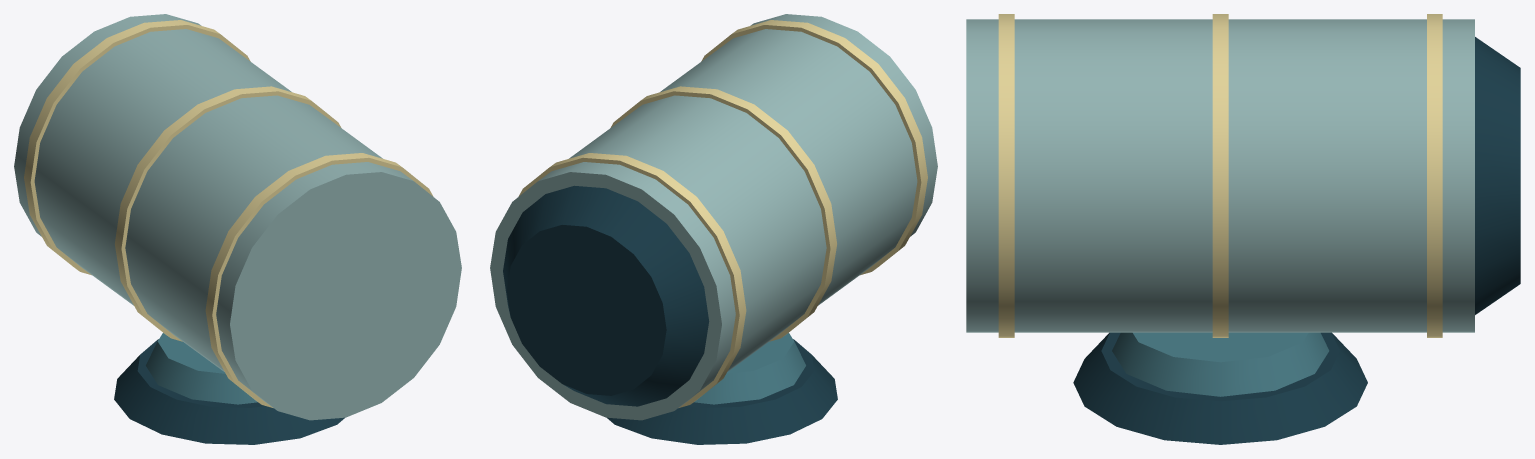
The model's file is pelagic_high_pressure--cargo_pod.glb.
3 renders of one model, left to right at view 1: azimuth 30°, elevation 25°; view 2: azimuth 150°, elevation 25°; view 3: azimuth 270°, elevation 25°, orthographic. The views are drawn at different scales.
Visible parts, largest first — view 1: sealed_pod_3, mount_adapter_1, containment_band_6, containment_band_4, containment_band_5, rotation_bearing_2; view 2: sealed_pod_3, pod_end_7, mount_adapter_1, containment_band_4, containment_band_6, containment_band_5, rotation_bearing_2; view 3: sealed_pod_3, mount_adapter_1, rotation_bearing_2, pod_end_7, containment_band_5, containment_band_6, containment_band_4.
Part boxes in pixels (x1,y1,x2,y2): sealed_pod_3: (14,14,461,420); mount_adapter_1: (114,339,344,444); containment_band_6: (205,153,433,407); containment_band_4: (24,20,250,275); containment_band_5: (115,86,341,341); rotation_bearing_2: (146,333,257,404); sealed_pod_3: (490,14,937,420); pod_end_7: (503,185,709,406); mount_adapter_1: (607,339,837,444); containment_band_4: (518,153,746,407); containment_band_6: (701,20,927,275); containment_band_5: (610,86,836,341); rotation_bearing_2: (694,333,805,404); sealed_pod_3: (966,19,1474,332); mount_adapter_1: (1073,332,1367,444); rotation_bearing_2: (1112,332,1329,396); pod_end_7: (1475,37,1520,314); containment_band_5: (1212,14,1228,337); containment_band_6: (998,14,1014,337); containment_band_4: (1427,14,1442,337).
Size of the model in its own units: 22.32 by 26.76 by 37.92.
